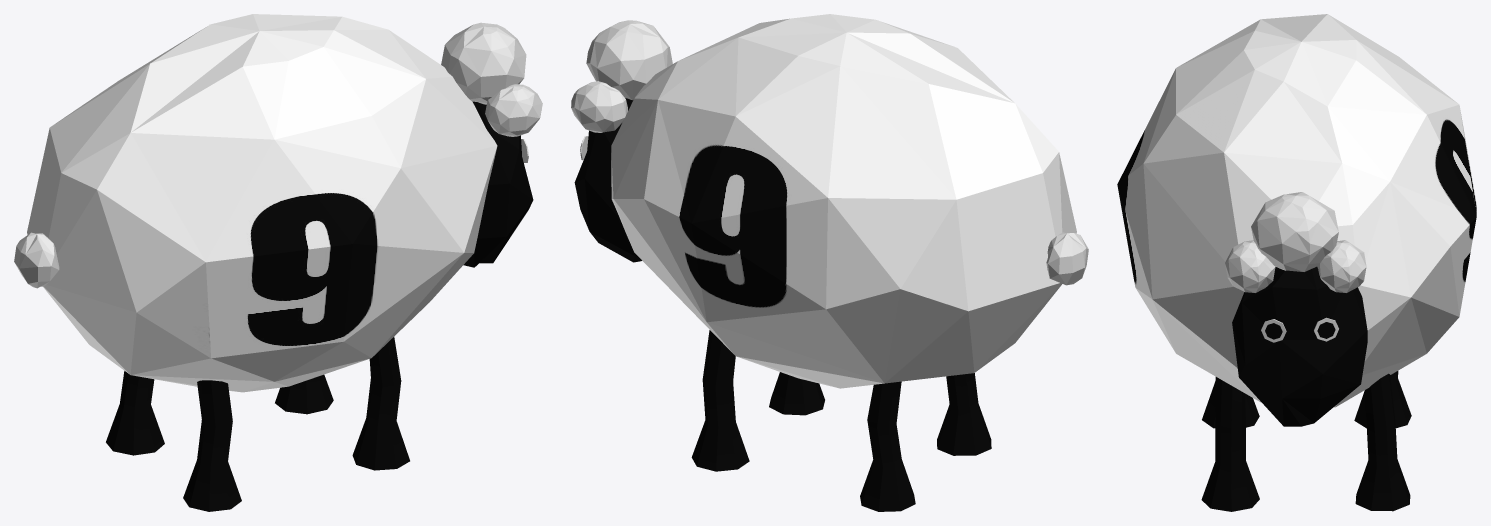
File: sheep9.fbx
3 views of the same model, side by side, from view 1: azimuth 30°, elevation 25°; view 2: azimuth 150°, elevation 25°; view 3: azimuth 270°, elevation 25° (orthographic).
Parts seen in each view (by area): view 1: pSphere1, pSphere7, pSphere4, pCylinder1, pCylinder5, pCylinder7, pSphere8, pSphere3, pCylinder6; view 2: pSphere1, pCylinder6, pSphere7, pCylinder7, pSphere4, pCylinder1, pSphere9, pSphere3, pCylinder5; view 3: pSphere1, pSphere4, pSphere7, pCylinder5, pCylinder6, pSphere8, pSphere9, pCylinder7, pCylinder1.
Boxes of the visible parts, x1,y1,x2,y2 form: pSphere1: (27,14,497,392); pSphere7: (441,22,526,104); pSphere4: (463,101,533,267); pCylinder1: (183,380,241,511); pCylinder5: (352,337,409,470); pCylinder7: (106,371,164,455); pSphere8: (485,84,542,136); pSphere3: (14,232,59,288); pCylinder6: (275,374,333,414); pSphere1: (611,14,1076,388); pCylinder6: (691,330,749,471); pSphere7: (586,20,672,100); pCylinder7: (860,381,915,511); pSphere4: (574,98,641,262); pCylinder1: (937,373,991,455); pSphere9: (571,81,627,132); pSphere3: (1046,232,1088,285); pCylinder5: (769,372,824,415); pSphere1: (1117,14,1476,407); pSphere4: (1232,266,1367,426); pSphere7: (1251,192,1338,271); pCylinder5: (1201,378,1259,511); pCylinder6: (1355,373,1410,511); pSphere8: (1225,240,1275,292); pSphere9: (1317,240,1366,292); pCylinder7: (1354,371,1411,428); pCylinder1: (1202,377,1259,428).
Size of the model in its own units: 3.08 by 2.46 by 1.93.
Materials: 3 (1 with a texture image).
